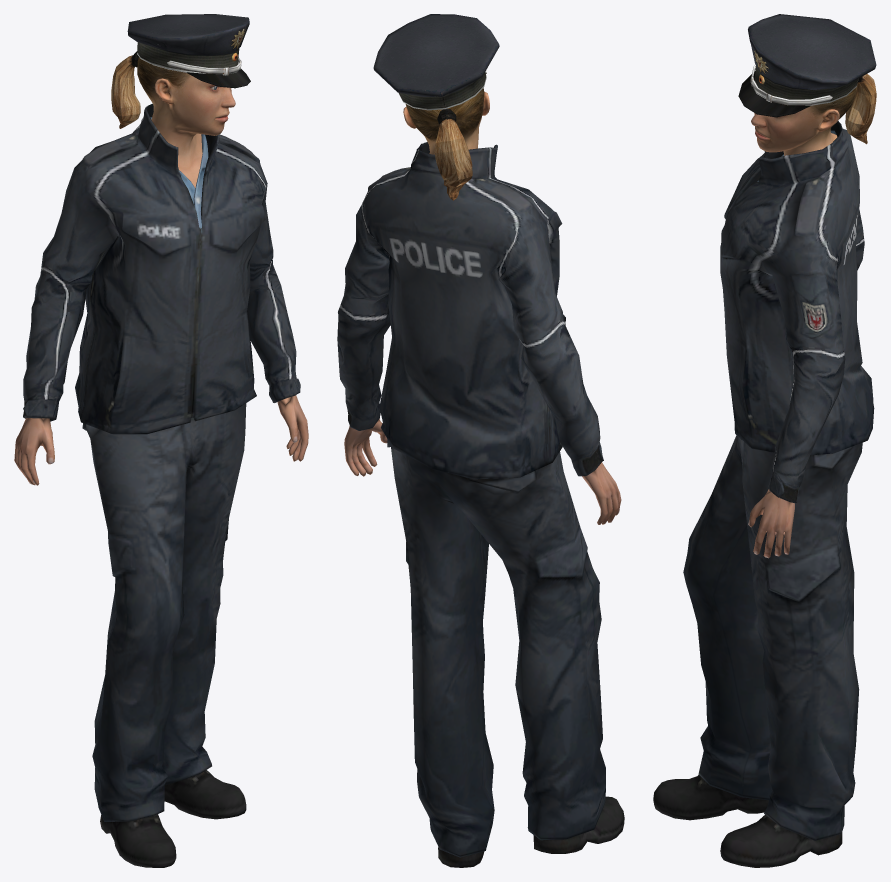
File: policewoman.obj
3 views of the same model, side by side, from view 1: azimuth 30°, elevation 25°; view 2: azimuth 150°, elevation 25°; view 3: azimuth 270°, elevation 25° (orthographic). The views are drawn at different scales.
Size of the model in its own units: 1.26 by 3.46 by 0.8456.
Materials: 3 (3 with a texture image).
